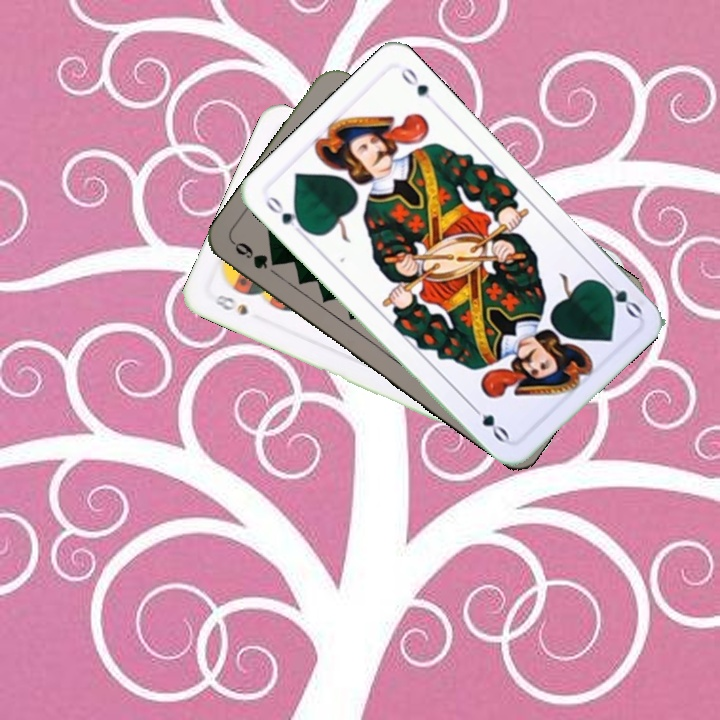G9: (229, 237, 271, 272)
GO: (593, 272, 645, 321), (261, 191, 310, 239)
S8: (209, 290, 251, 318)
